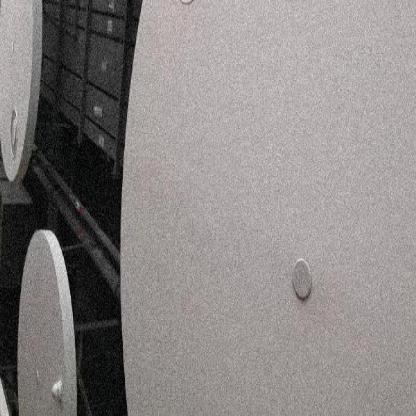light_off: (2, 94, 28, 170)
